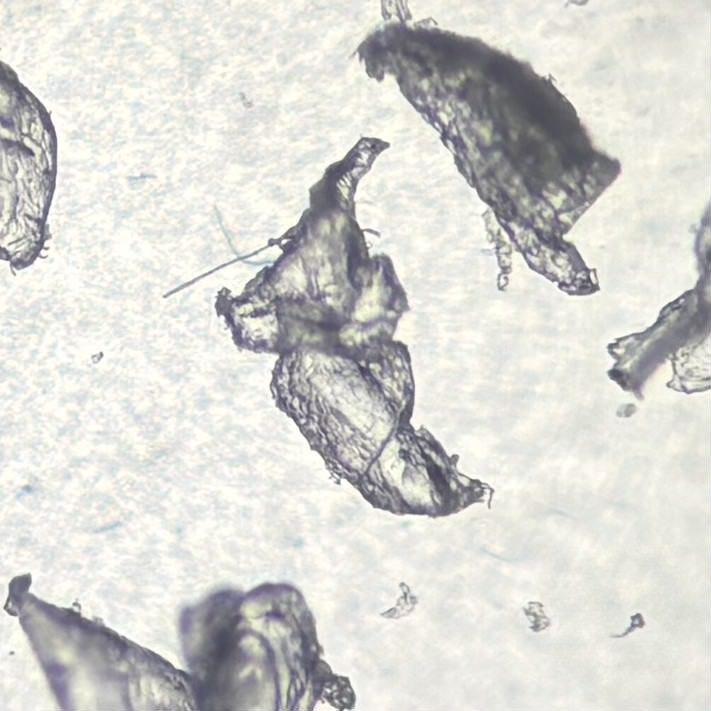microplastic: (162, 138, 495, 521), (348, 1, 622, 298), (4, 573, 357, 711), (605, 198, 711, 419), (1, 53, 59, 277), (380, 582, 418, 619), (521, 598, 552, 633), (608, 612, 648, 637)
